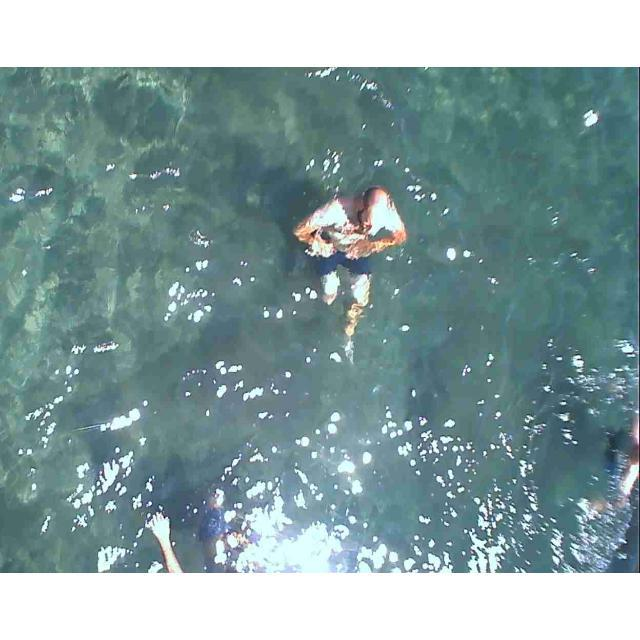human: (297, 178, 404, 341)
